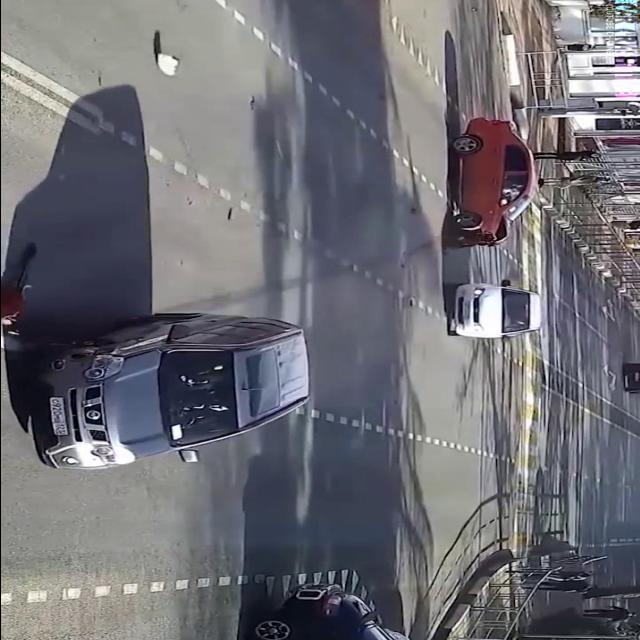accident: (0, 224, 330, 478), (433, 110, 543, 266)
